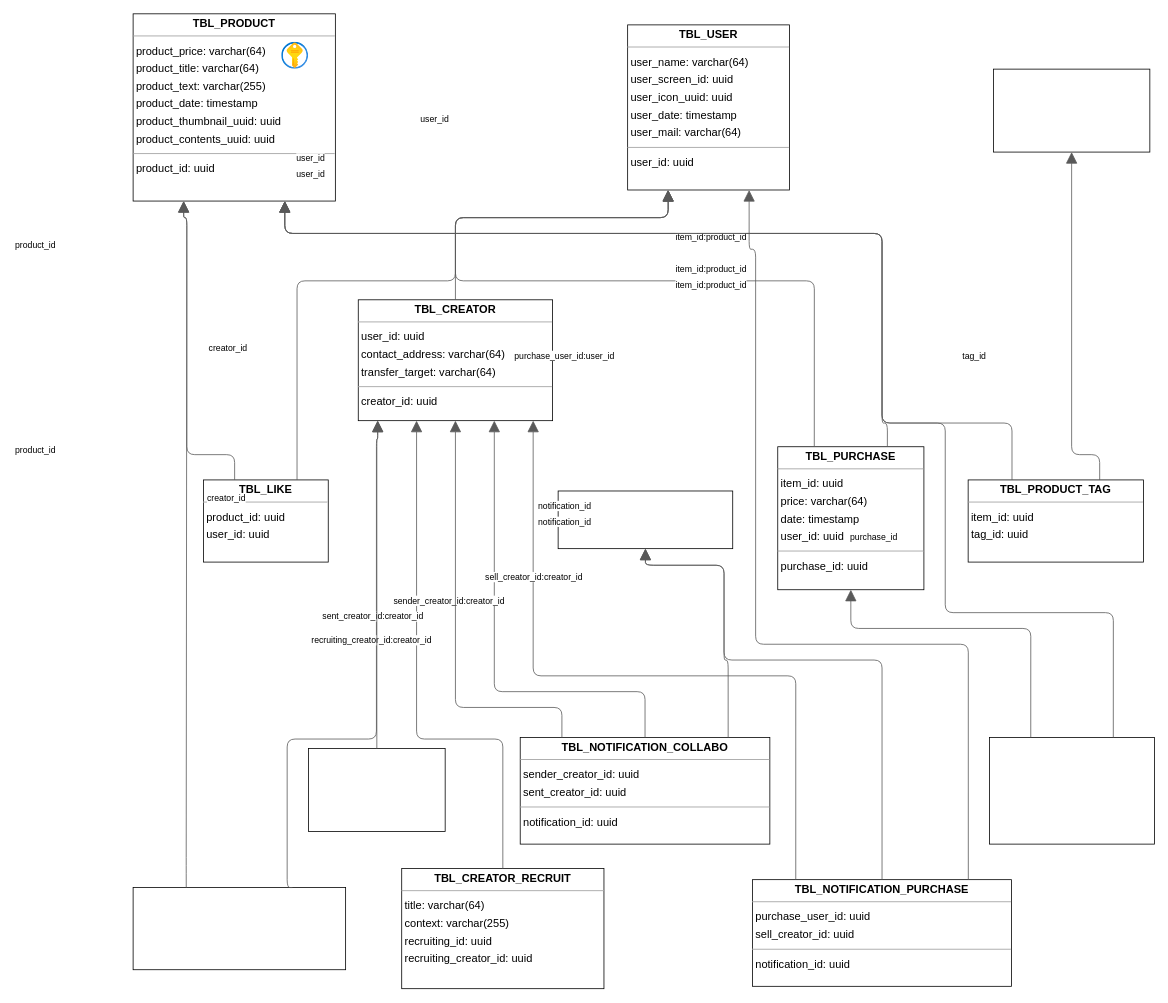
This 1168x1003 diagram has some shape labels left out. The centre of each missing label's shape, as x and y in pixels:
"TBL_CREATOR_PRODUCT creator_id: uuid product_id: uuid" belongs at pixel 239 928.
"TBL_NOTIFICATION notification_id: uuid" belongs at pixel 645 519.
"TBL_RANKING score: varchar(64) creator_id: uuid" belongs at pixel 376 789.
"TBL_SERIALCODE serial_code: varchar(64) purchase_id: uuid item_id: uuid" belongs at pixel 1072 790.
"TBL_TAG tag_name: varchar(64) tag_id: uuid" belongs at pixel 1071 110.
